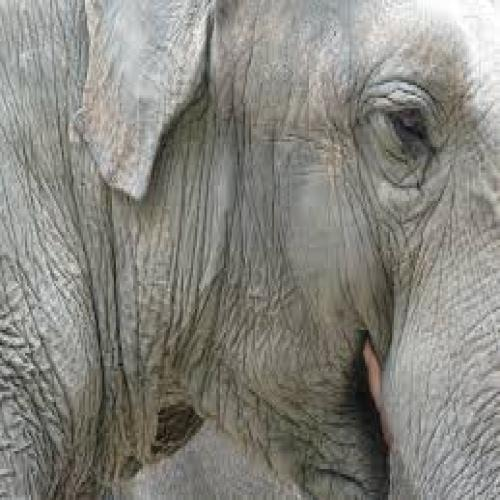asian_elephant-endangered: (15, 17, 488, 484)
